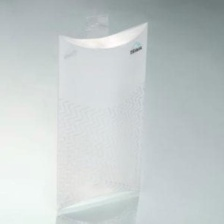plastic_box: (50, 7, 157, 218)
